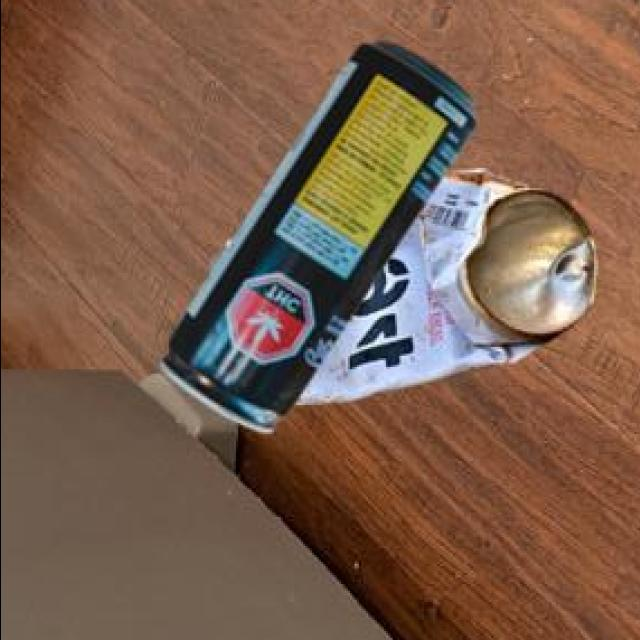logam: (158, 41, 471, 429), (206, 167, 592, 402)
